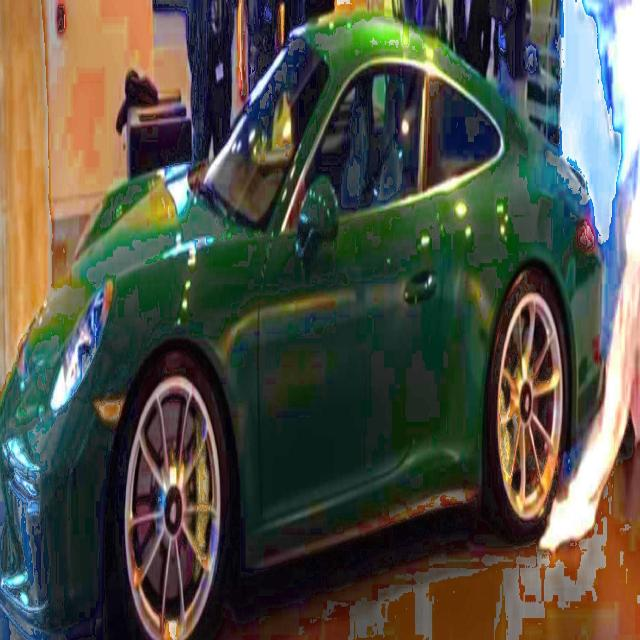green: (9, 11, 615, 640)
